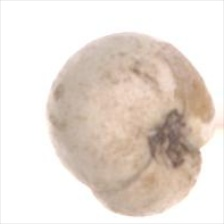L4: (47, 33, 216, 216)
